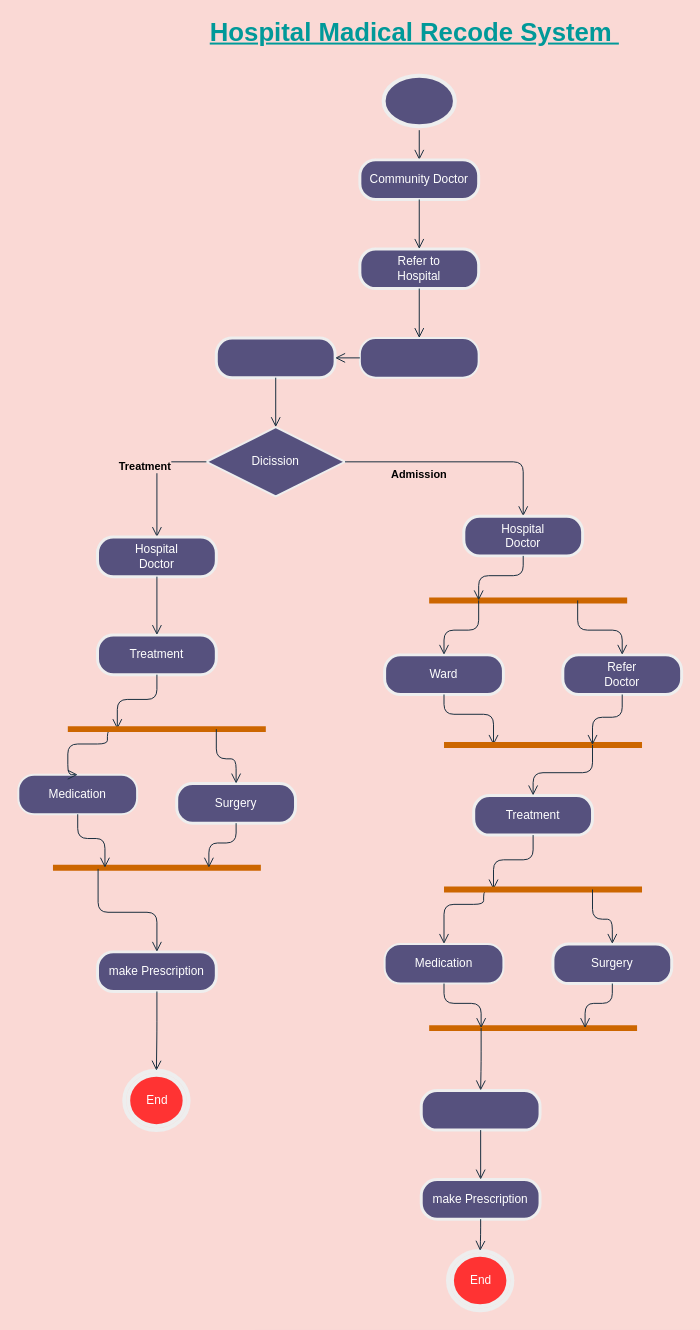
Image size: 700x1330. Some labels were removed from this diagram. The shapes that lost their labels are listed below. From the top down, each one's centre as x and y in pixels, then its label:
At (418,100): "Start".
At (275,357): "Diagnosis".
At (418,357): "Make a patient Diagram".
At (480,1110): "Discharge".
